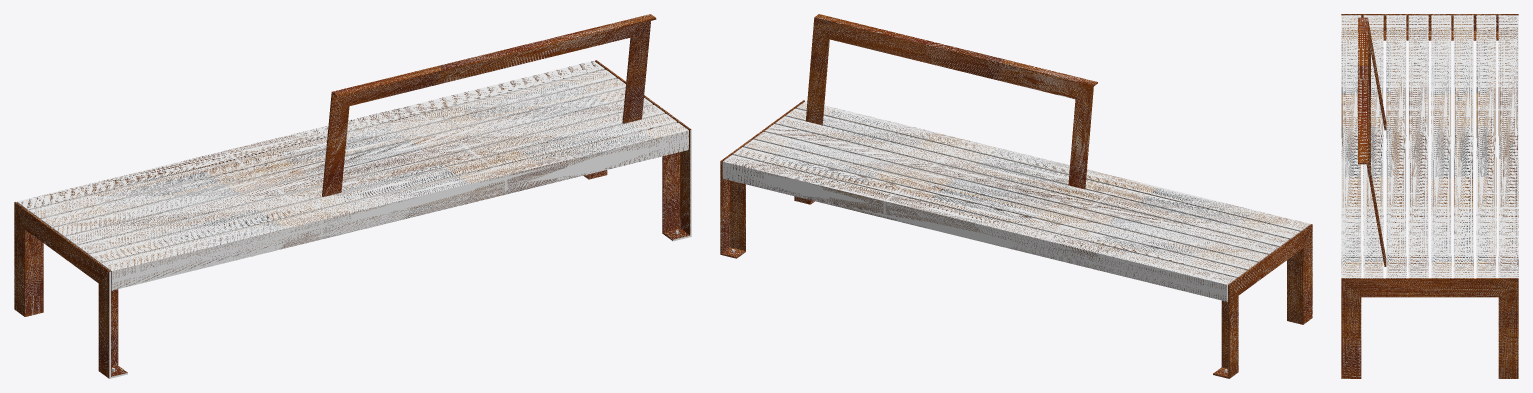
3 views of the same model, side by side, from view 1: azimuth 30°, elevation 25°; view 2: azimuth 150°, elevation 25°; view 3: azimuth 270°, elevation 25° (orthographic). The views are drawn at different scales.
Parts seen in each view (by area): view 1: mesh8_mesh8-geometry, mesh1_mesh1-geometry, mesh17_mesh17-geometry, mesh13_mesh13-geometry, mesh12_mesh12-geometry, mesh15_mesh15-geometry, mesh10_mesh10-geometry, mesh14_mesh14-geometry, mesh9_mesh9-geometry, mesh18_mesh18-geometry, mesh2_mesh2-geometry; view 2: mesh13_mesh13-geometry, mesh1_mesh1-geometry, mesh9_mesh9-geometry, mesh10_mesh10-geometry, mesh12_mesh12-geometry, mesh14_mesh14-geometry, mesh15_mesh15-geometry, mesh8_mesh8-geometry, mesh17_mesh17-geometry, mesh18_mesh18-geometry, mesh2_mesh2-geometry; view 3: mesh2_mesh2-geometry, mesh9_mesh9-geometry, mesh10_mesh10-geometry, mesh12_mesh12-geometry, mesh13_mesh13-geometry, mesh14_mesh14-geometry, mesh15_mesh15-geometry, mesh8_mesh8-geometry, mesh17_mesh17-geometry, mesh1_mesh1-geometry, mesh18_mesh18-geometry.
Boxes of the visible parts, <box> form: mesh8_mesh8-geometry: <box>101,122,688,290</box>; mesh1_mesh1-geometry: <box>322,14,656,196</box>; mesh17_mesh17-geometry: <box>89,114,676,263</box>; mesh13_mesh13-geometry: <box>17,61,604,210</box>; mesh12_mesh12-geometry: <box>29,69,616,219</box>; mesh15_mesh15-geometry: <box>41,78,625,228</box>; mesh10_mesh10-geometry: <box>53,88,625,237</box>; mesh14_mesh14-geometry: <box>77,105,664,254</box>; mesh9_mesh9-geometry: <box>65,97,652,246</box>; mesh18_mesh18-geometry: <box>14,202,127,378</box>; mesh2_mesh2-geometry: <box>584,60,691,241</box>; mesh13_mesh13-geometry: <box>722,155,1236,301</box>; mesh1_mesh1-geometry: <box>805,14,1097,189</box>; mesh9_mesh9-geometry: <box>765,124,1278,255</box>; mesh10_mesh10-geometry: <box>754,132,1267,262</box>; mesh12_mesh12-geometry: <box>733,147,1246,278</box>; mesh14_mesh14-geometry: <box>775,116,1289,247</box>; mesh15_mesh15-geometry: <box>743,139,1257,270</box>; mesh8_mesh8-geometry: <box>796,101,1310,231</box>; mesh17_mesh17-geometry: <box>786,108,1299,239</box>; mesh18_mesh18-geometry: <box>1213,224,1312,378</box>; mesh2_mesh2-geometry: <box>720,100,814,258</box>; mesh2_mesh2-geometry: <box>1341,278,1518,378</box>; mesh9_mesh9-geometry: <box>1408,15,1428,278</box>; mesh10_mesh10-geometry: <box>1431,15,1451,278</box>; mesh12_mesh12-geometry: <box>1476,15,1496,278</box>; mesh13_mesh13-geometry: <box>1498,15,1518,278</box>; mesh14_mesh14-geometry: <box>1386,15,1406,278</box>; mesh15_mesh15-geometry: <box>1453,15,1473,278</box>; mesh8_mesh8-geometry: <box>1341,15,1361,278</box>; mesh17_mesh17-geometry: <box>1363,15,1383,278</box>; mesh1_mesh1-geometry: <box>1358,17,1386,266</box>; mesh18_mesh18-geometry: <box>1341,14,1518,40</box>.
Size of the model in its own units: 0.9088 by 0.3285 by 0.2573.
